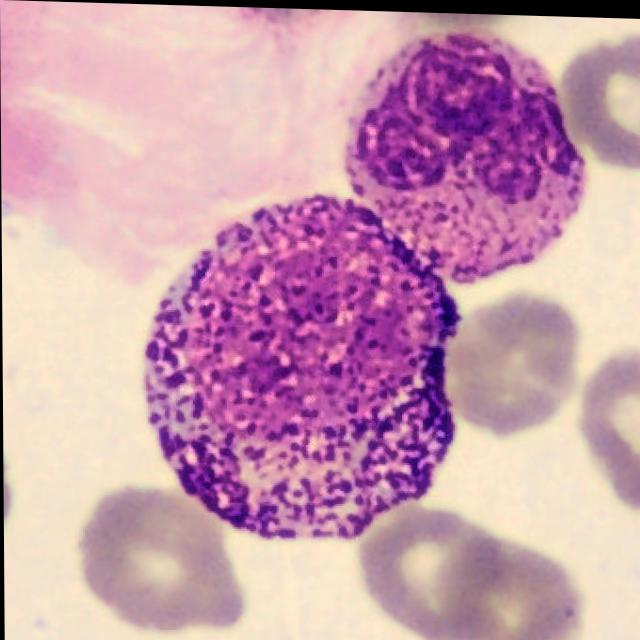Neutrofilo segmentado: (344, 27, 584, 284)
Promielocito: (143, 193, 461, 542)
